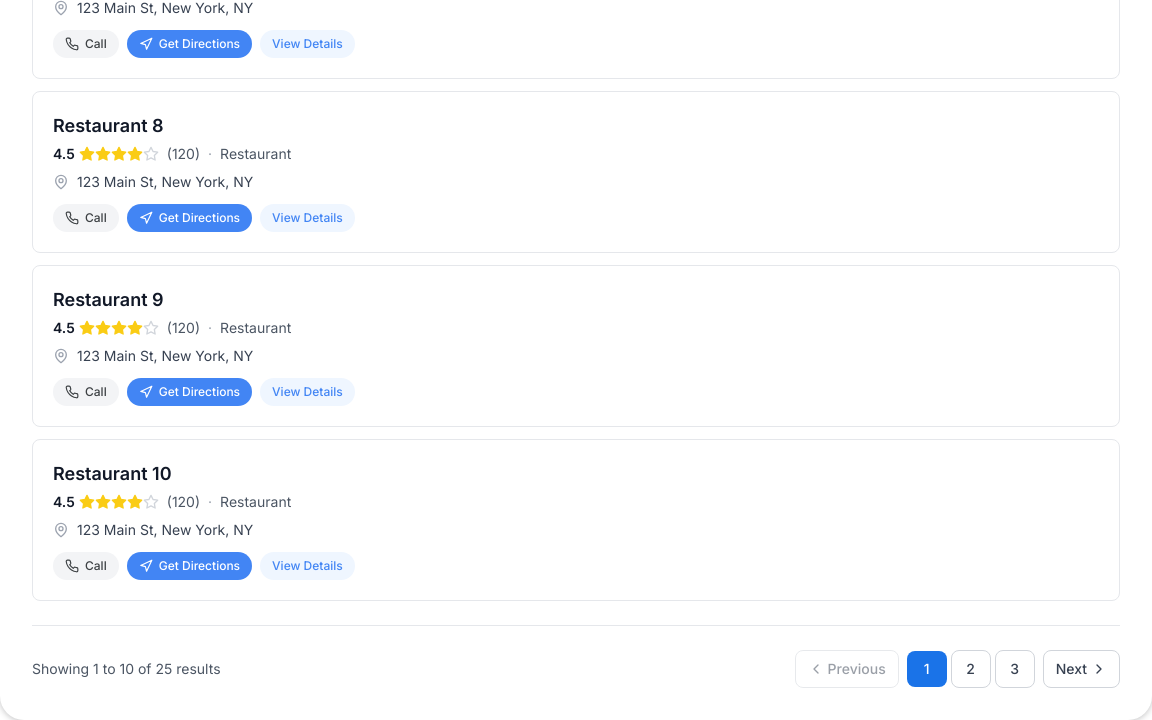
Test: ResultsTable › should paginate results correctly
The width and height of the screenshot is (1152, 720).
(page scrolled)
Expected: the heading "Restaurant 10" is shown, [53, 463, 172, 484]
# Navigate to page 2
Click the button "Next".
click(1081, 669)  # box [1043, 650, 1120, 688]
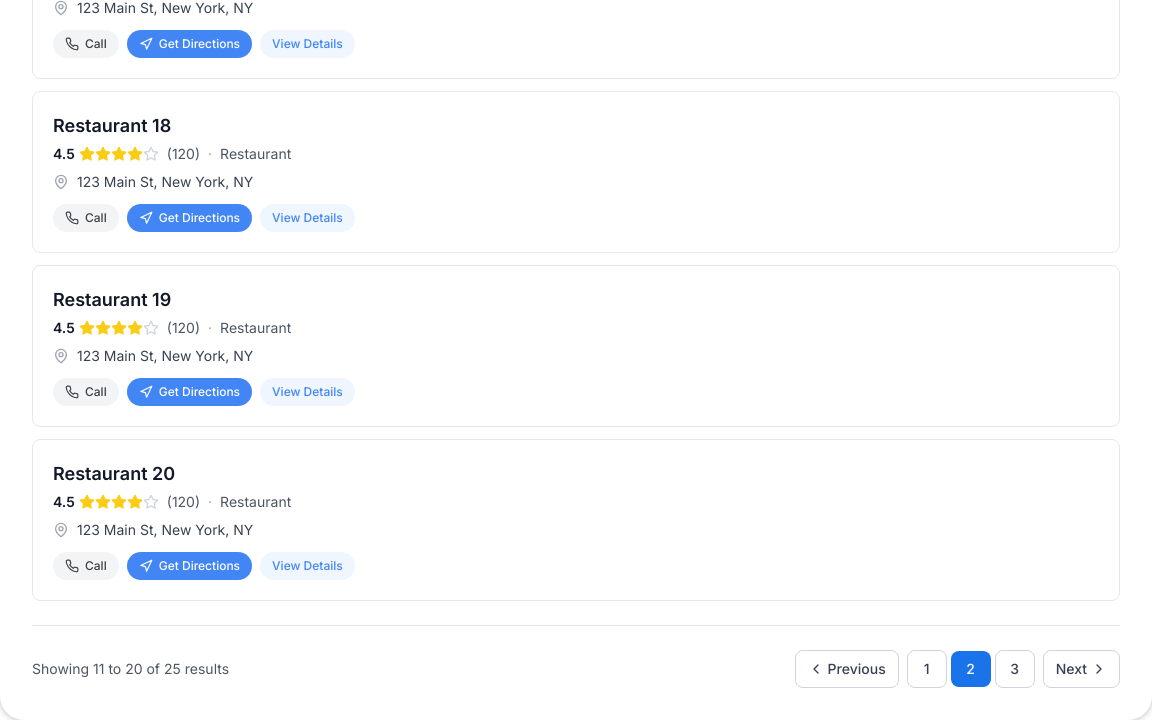
Expected: the heading "Restaurant 20" is shown, [53, 463, 175, 484]
Expected: the heading "Restaurant 10" is gone
